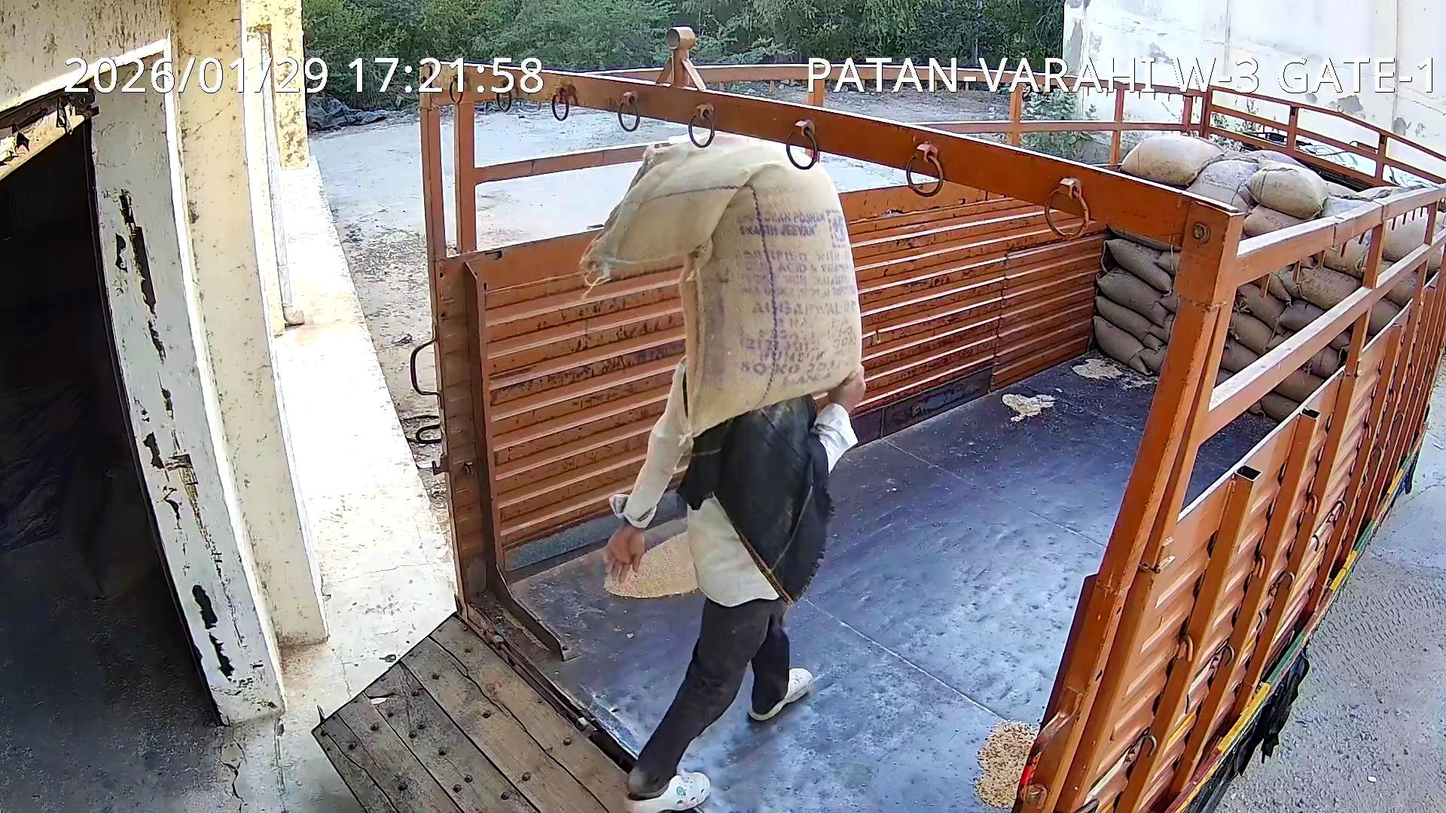Sack: (580, 134, 862, 433)
